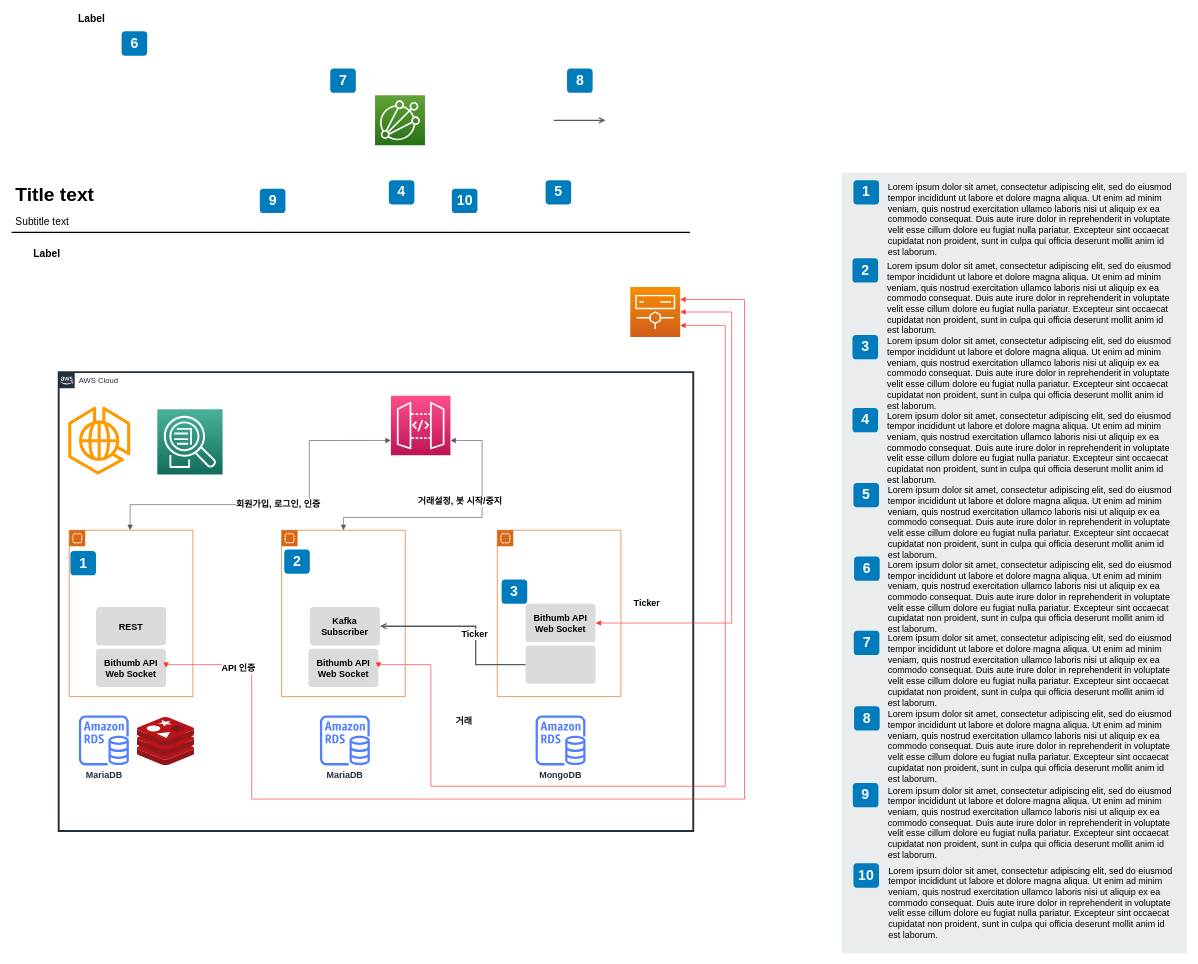
Some shapes in this 1198 by 964 pixel diagram are drawn without their labels. The box of each missing label's shape, as (x1, y1, x2, y2) in pixels:
API Gateway: (390, 395, 450, 455)
AWS IoT Analytics: (374, 95, 425, 145)
Bithumb API Server: (630, 286, 680, 337)
ECS: (68, 406, 130, 474)
Eureka: (157, 409, 223, 475)
Kafka Publisher: (525, 645, 595, 684)
Redis: (137, 717, 194, 765)
거래서비스 EC2: (281, 530, 405, 697)
암호화폐 정보관리 서비스 EC2: (497, 530, 621, 697)
회원서비스 EC2: (69, 530, 193, 697)
